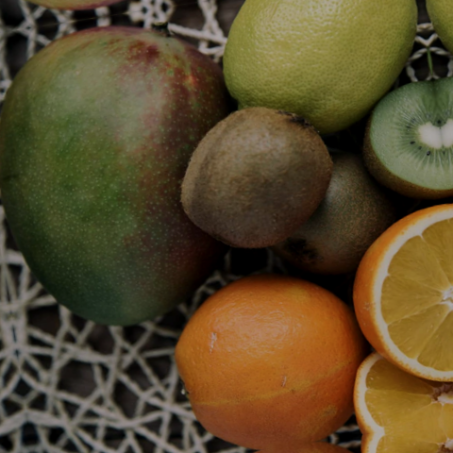kiwi: (0, 0, 264, 374), (162, 98, 345, 259)
orange: (157, 256, 373, 453)
